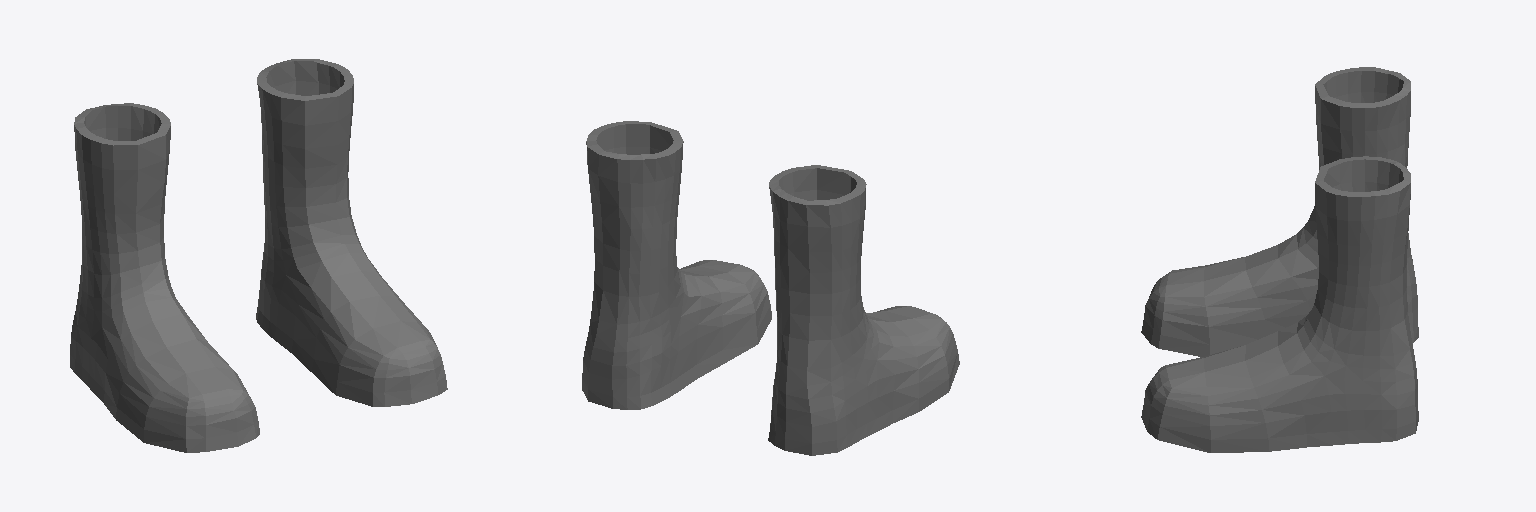
File: LowPoly_Apostador_BotasParte03.obj
The picture shows the model from 3 angles: view 1: azimuth 30°, elevation 25°; view 2: azimuth 150°, elevation 25°; view 3: azimuth 270°, elevation 25°; orthographic projection.
Visible parts, largest first — view 1: LowPoly_Apostador_BotasParte03; view 2: LowPoly_Apostador_BotasParte03; view 3: LowPoly_Apostador_BotasParte03.
Boxes of the visible parts, box(x1,y1,x2,y2) form: LowPoly_Apostador_BotasParte03: box(70, 59, 447, 452); LowPoly_Apostador_BotasParte03: box(582, 121, 959, 455); LowPoly_Apostador_BotasParte03: box(1141, 67, 1418, 452).
Size of the model in its own units: 30.57 by 25.1 by 25.06.